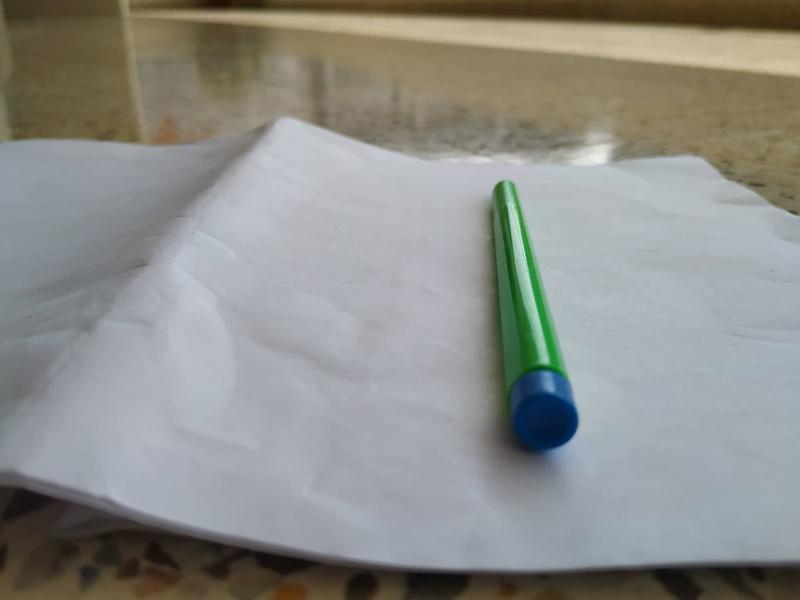qillqana: (479, 173, 586, 461)
